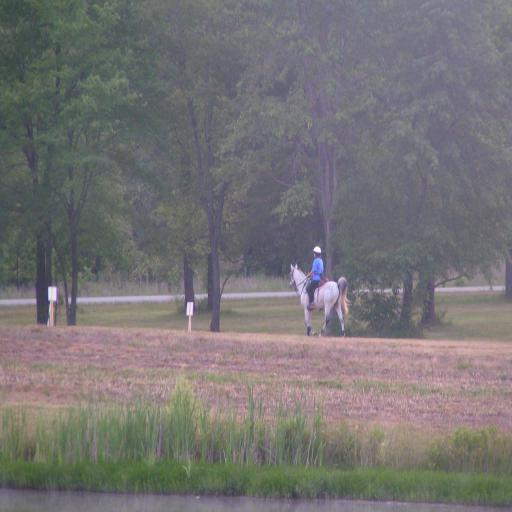horse: (288, 261, 353, 338)
